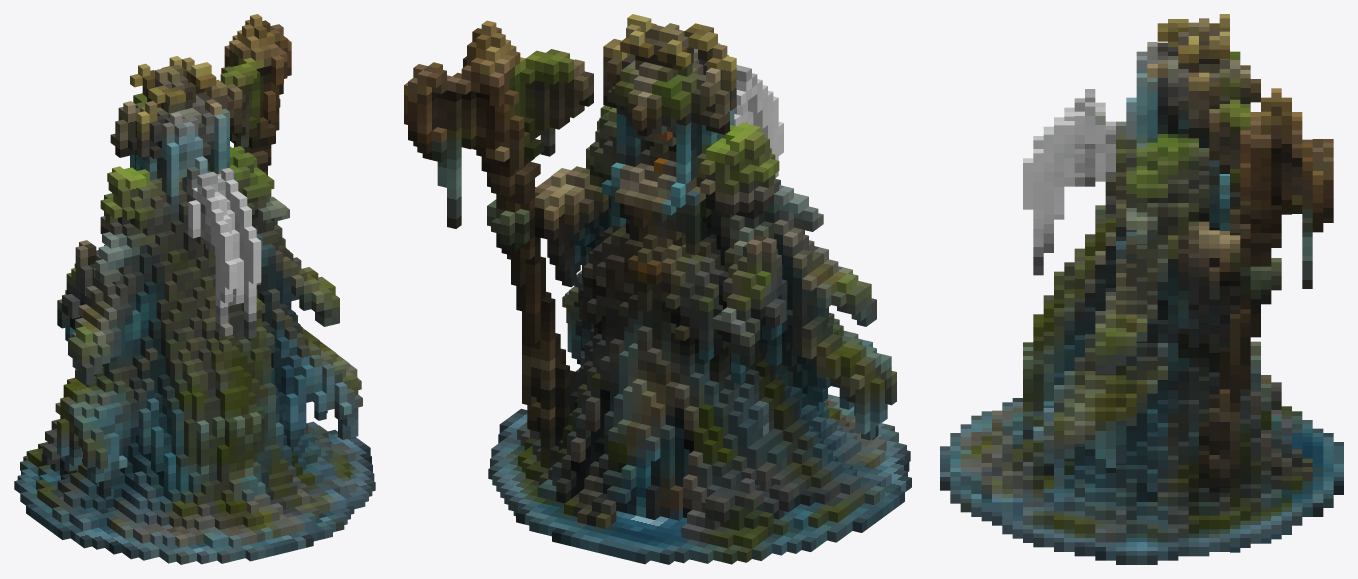
Rendered from u_dame.glb.
3 renders of one model, left to right at view 1: azimuth 30°, elevation 25°; view 2: azimuth 150°, elevation 25°; view 3: azimuth 270°, elevation 25°, orthographic. The views are drawn at different scales.
Visible parts, largest first — view 1: dame_body; view 2: dame_body; view 3: dame_body.
Boxes of the visible parts, x1,y1,x2,y2 form: dame_body: (14, 14, 375, 564); dame_body: (404, 14, 911, 564); dame_body: (940, 14, 1343, 564).
Size of the model in its own units: 1.49 by 1.79 by 1.42.
1 material, 1 textured.
